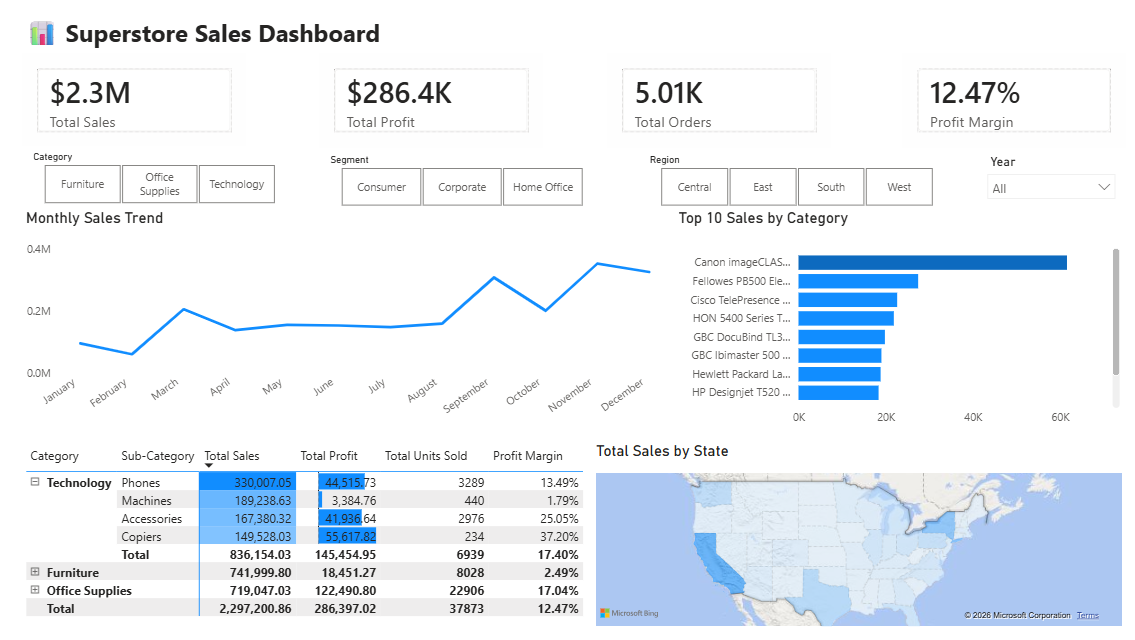

The page's visual inventory and layout, read from the dashboard file:
{"tool":"powerbi","page":{"name":"Sales Dashboard","canvas":[1280,720],"ordinal":0},"visuals":[{"type":"cardVisual","title":"Total Sales","fields":{"Data":["Sum(FactSales.Sales)"]},"box":[28,60,250,105],"z":0},{"type":"lineChart","title":"Monthly Sales Trend","fields":{"Category":["DimCalendar.Date.Variation.Date Hierarchy.Month","DimCalendar.Date.Variation.Date Hierarchy.Day"],"Y":["Sum(FactSales.Sales)"]},"box":[28,234,725,250],"z":1000},{"type":"slicer","fields":{"Values":["DimCustomer.Segment"]},"box":[358,166,317.4,69.6],"z":2000},{"type":"cardVisual","fields":{"Data":["Sum(FactSales.Profit)"]},"box":[358,60,250,105],"z":3000},{"type":"cardVisual","fields":{"Data":["FactSales.Profit Margin"]},"box":[1006,60,249.4,105],"z":4000},{"type":"cardVisual","fields":{"Data":["FactSales.Total Orders"]},"box":[678,60,250,105],"z":5000},{"type":"filledMap","title":"Total Sales by State","fields":{"Category":["DimGeography.State"]},"box":[662,492,594,210],"z":6000},{"type":"barChart","title":"Top 10 Sales by Category","fields":{"Category":["DimProduct.Product Name"],"Y":["Sum(FactSales.Sales)"]},"box":[754,234,500,250],"z":7000},{"type":"slicer","fields":{"Values":["DimCalendar.Year"]},"box":[1092,166,161.9,69.6],"z":8000},{"type":"slicer","fields":{"Values":["DimGeography.Region"]},"box":[714,166,351.4,69.6],"z":9000},{"type":"slicer","fields":{"Values":["DimProduct.Category"]},"box":[28,164,305,70],"z":10000},{"type":"textbox","box":[28,14,488,46],"z":11000},{"type":"pivotTable","fields":{"Rows":["DimProduct.Category","DimProduct.Sub-Category"],"Values":["Sum(FactSales.Sales)","Sum(FactSales.Profit)","Sum(FactSales.Quantity)","FactSales.Profit Margin"]},"box":[28,492,632,210],"z":11001}]}

Visuals, with their boxes in screenshot pixels (x1, y1, x2, y2), scaled from the page's 1280x720 canvas onto the 1135x640 screenshot:
"Total Sales" cardVisual: BBox(25, 53, 247, 147)
"Monthly Sales Trend" lineChart: BBox(25, 208, 668, 430)
slicer - DimCustomer.Segment: BBox(317, 148, 599, 209)
cardVisual - Sum(FactSales.Profit): BBox(317, 53, 539, 147)
cardVisual - FactSales.Profit Margin: BBox(892, 53, 1113, 147)
cardVisual - FactSales.Total Orders: BBox(601, 53, 823, 147)
"Total Sales by State" filledMap: BBox(587, 437, 1114, 624)
"Top 10 Sales by Category" barChart: BBox(669, 208, 1112, 430)
slicer - DimCalendar.Year: BBox(968, 148, 1112, 209)
slicer - DimGeography.Region: BBox(633, 148, 945, 209)
slicer - DimProduct.Category: BBox(25, 146, 295, 208)
textbox: BBox(25, 12, 458, 53)
pivotTable - DimProduct.Category x DimProduct.Sub-Category: BBox(25, 437, 585, 624)
